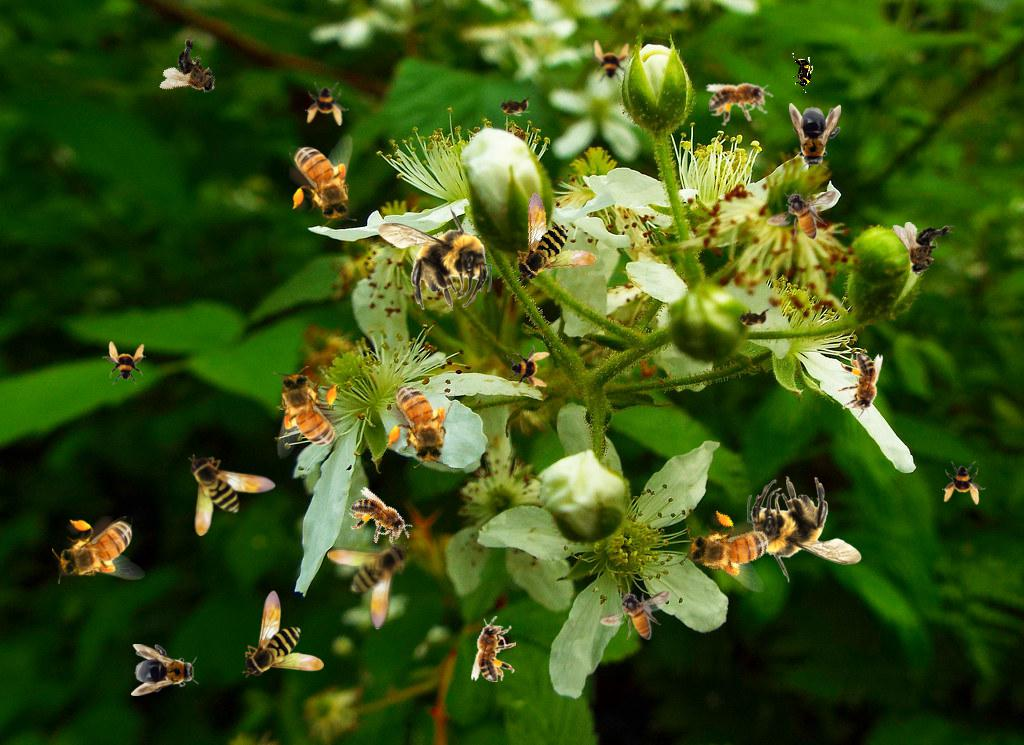Bee: (747, 476, 862, 583), (377, 204, 492, 311), (674, 500, 788, 599), (503, 184, 599, 284), (380, 370, 462, 473), (327, 542, 409, 630), (242, 590, 324, 678), (188, 454, 276, 536), (273, 366, 341, 459), (289, 134, 357, 227), (52, 516, 145, 584), (156, 31, 233, 111), (341, 485, 421, 556), (704, 71, 778, 130), (766, 190, 837, 240), (600, 590, 671, 640), (131, 644, 199, 696), (789, 103, 841, 171), (893, 222, 955, 275), (471, 616, 516, 682), (838, 353, 883, 419), (587, 40, 631, 84), (305, 82, 349, 126), (942, 461, 986, 505), (506, 345, 550, 389), (102, 341, 146, 385), (791, 52, 815, 94), (494, 95, 534, 117), (733, 307, 773, 329)
